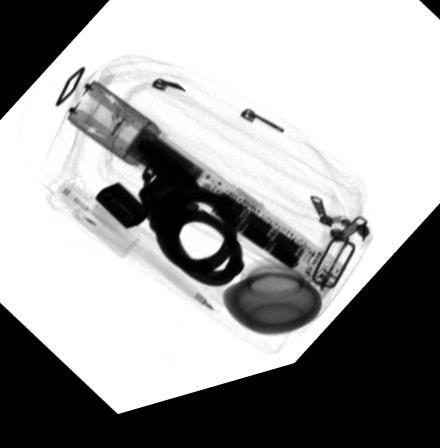Baton: (64, 86, 347, 313)
HandCuffs: (139, 168, 247, 299)
Lighter: (94, 187, 149, 237)
